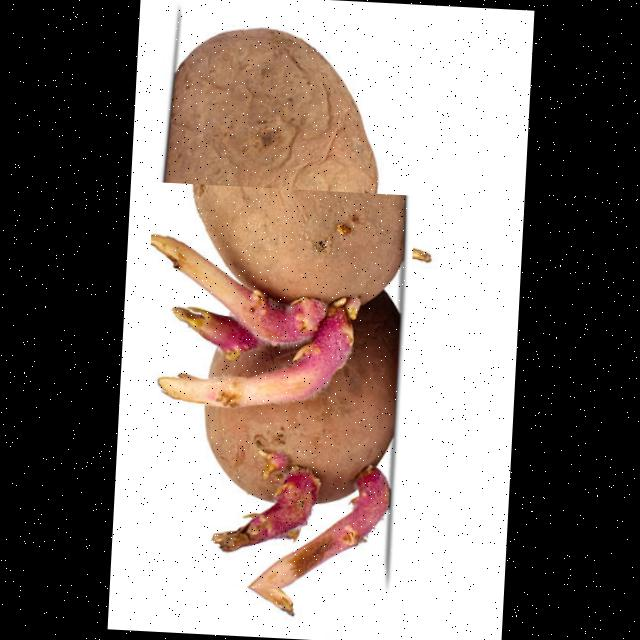Sprouted potato: (132, 182, 415, 595), (152, 14, 394, 328)
